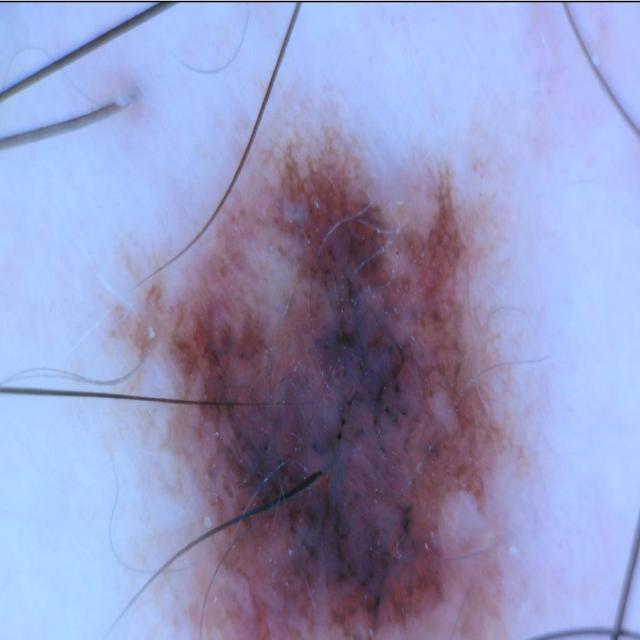Melanoma: (120, 145, 537, 640)
